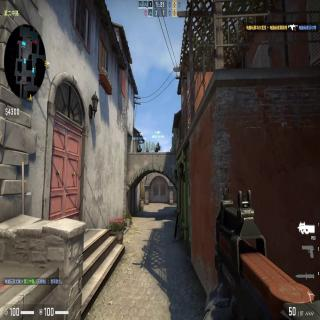CT-Body: (155, 142, 161, 153), (137, 144, 142, 153)
CT-Head: (157, 142, 160, 147), (139, 144, 141, 147)
